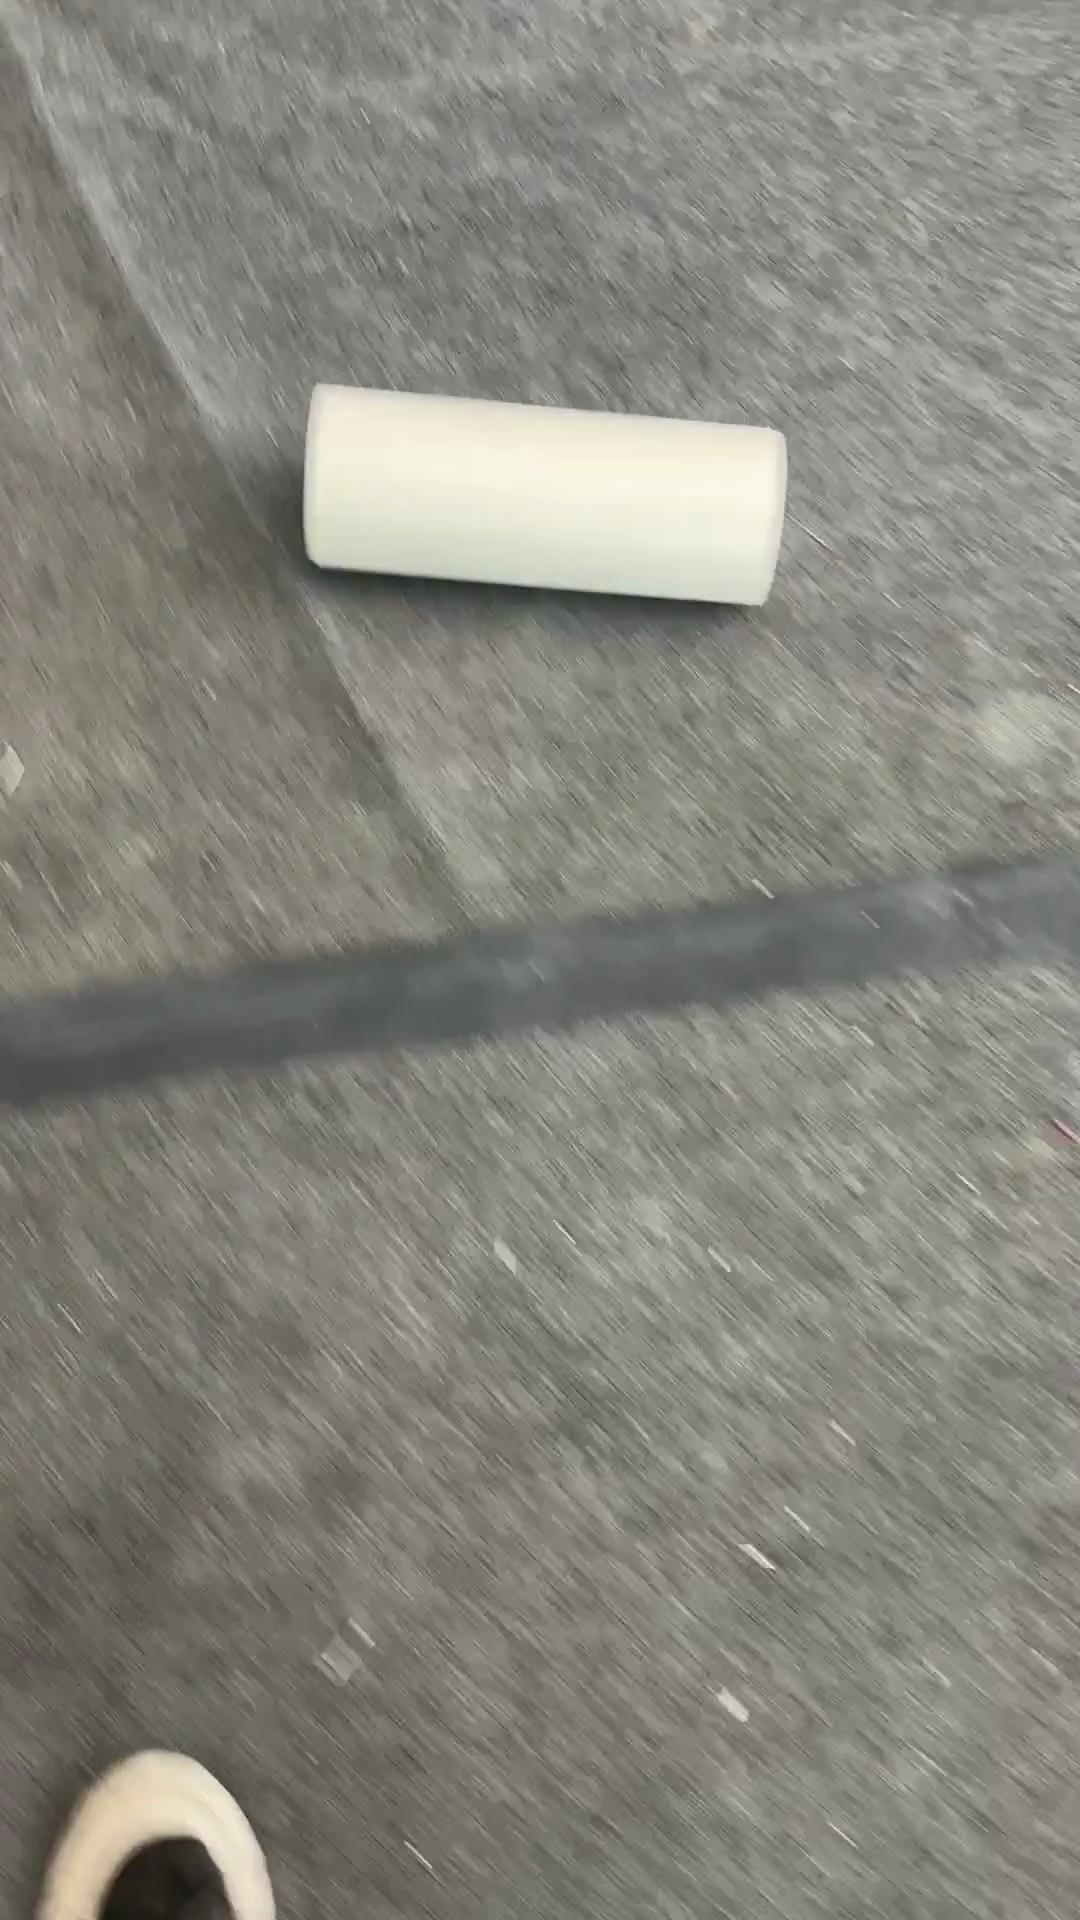CORAL: (299, 378, 789, 608)
